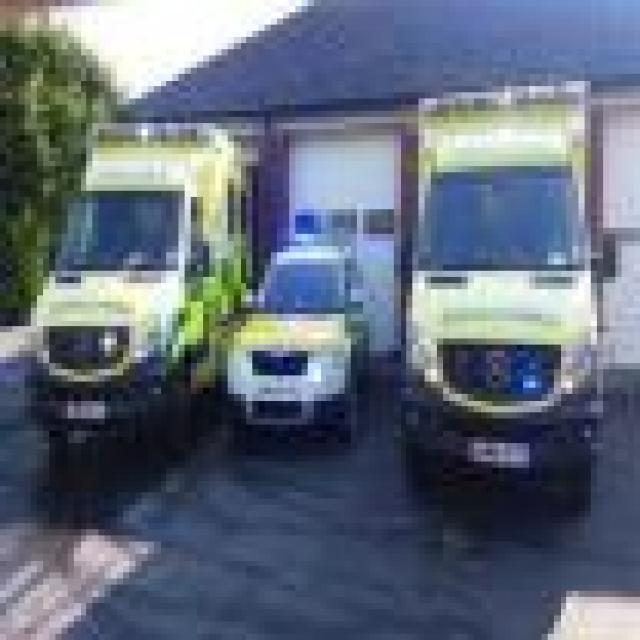emergency-vehicle: (406, 74, 609, 511), (28, 110, 268, 450), (236, 224, 372, 433)
